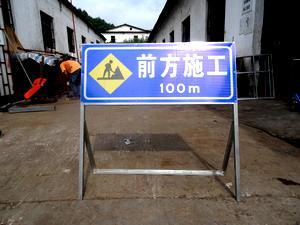sign: (79, 43, 237, 102)
